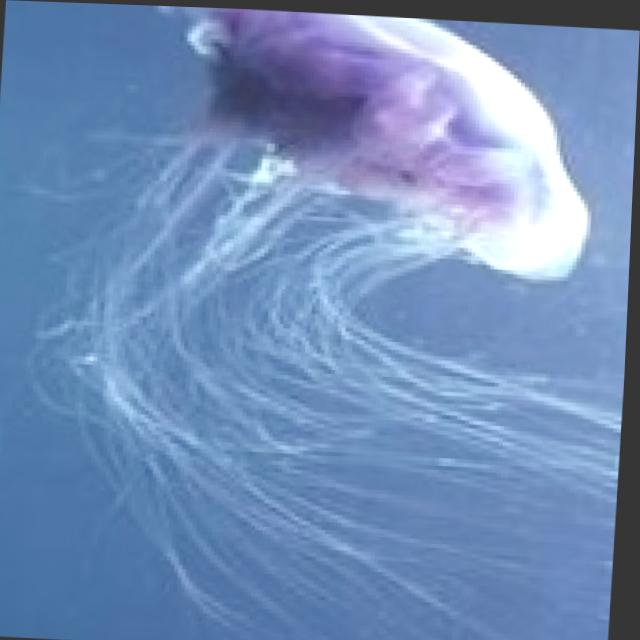Jellyfish: (42, 2, 640, 640)
